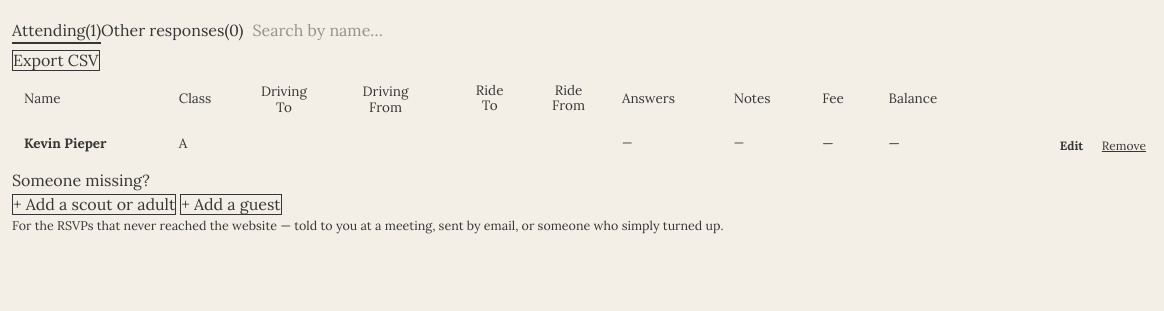
Test case: RosterTable — Remove explains that Remove is not a ban (Option 1, 2026-08-24) › RemoveConfirmStep_SaysFamilyCanSignUpAgain
What coordinates should you click on to do the following:
click the button "Remove"
I would click on:
 (1124, 146)
Its box is [1096,133,1152,159].
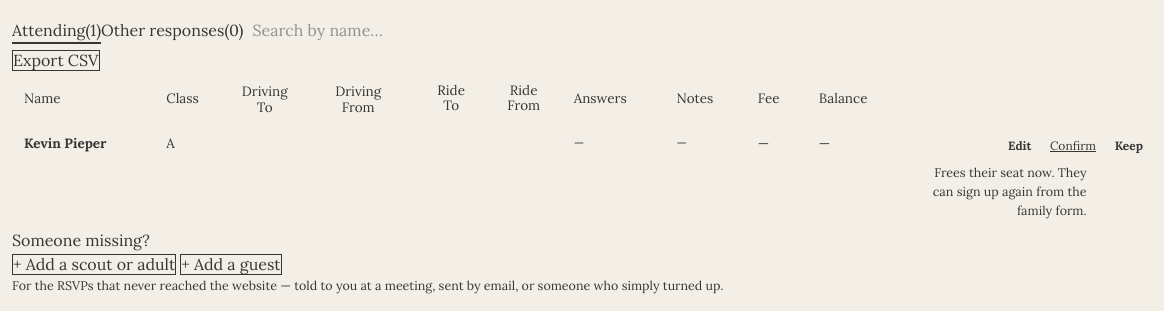
Result: the button "Confirm" is shown at [1044,133,1102,159]
Result: the text "can sign up again from the family form" is shown at [933,164,1087,218]
